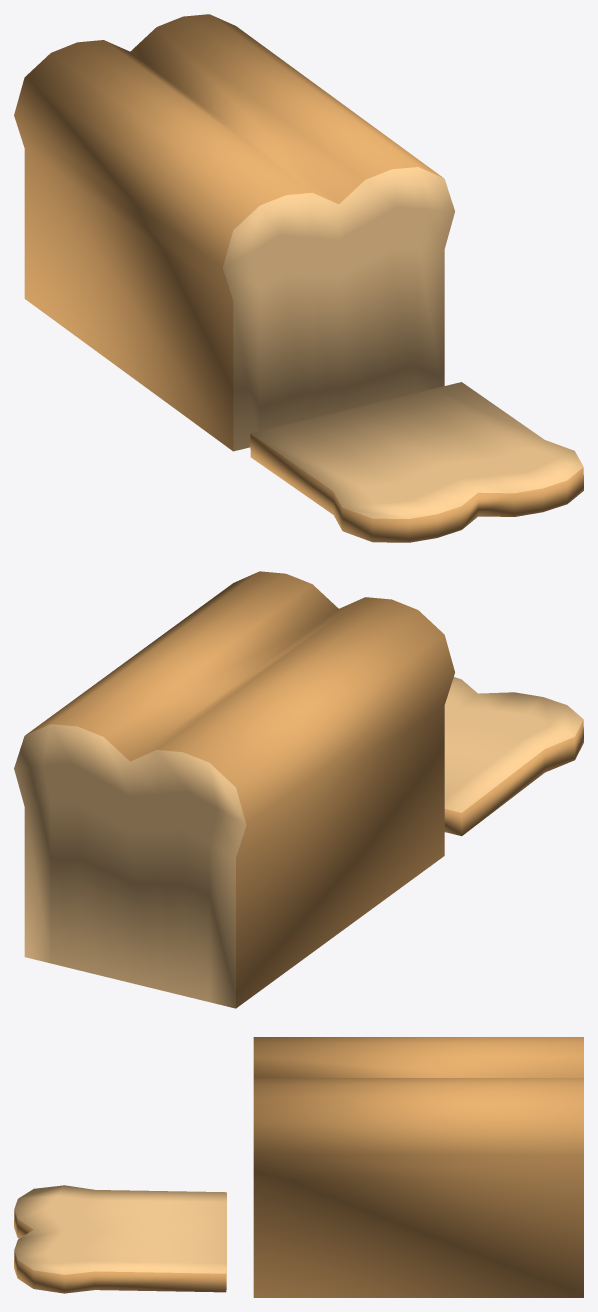
Rendered from props_bread.fbx.
3 renders of one model, top to bottom at view 1: azimuth 30°, elevation 25°; view 2: azimuth 150°, elevation 25°; view 3: azimuth 270°, elevation 25°, orthographic. The views are drawn at different scales.
Parts seen in each view (by area): view 1: Cube.010; view 2: Cube.010; view 3: Cube.010.
Boxes of the visible parts, x1,y1,x2,y2 form: Cube.010: (14, 14, 583, 542); Cube.010: (14, 571, 583, 1008); Cube.010: (14, 1037, 583, 1297).
Bounding box in the file's own units: 46.8 × 126 × 46.84.
